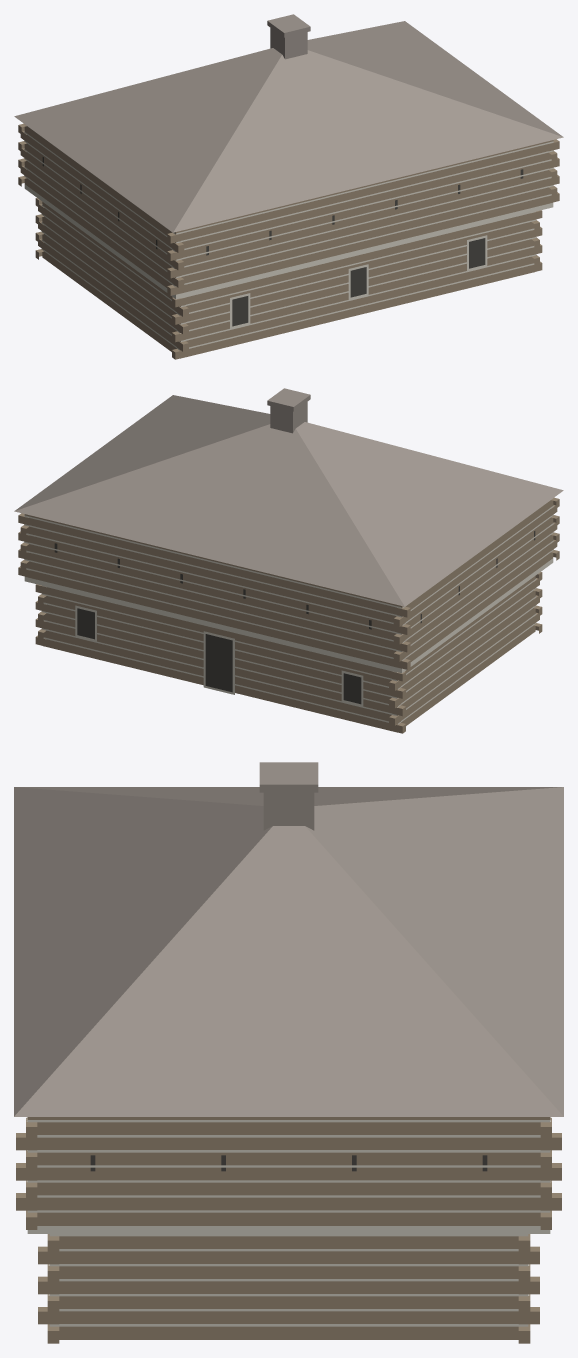
Rendered from fort_dearborn_blockhouse__log_1816.glb.
3 renders of one model, top to bottom at view 1: azimuth 30°, elevation 25°; view 2: azimuth 150°, elevation 25°; view 3: azimuth 270°, elevation 25°, orthographic. The views are drawn at different scales.
Visible parts, largest first — view 1: fort_dearborn_blockhouse__log_1816; view 2: fort_dearborn_blockhouse__log_1816; view 3: fort_dearborn_blockhouse__log_1816.
Part boxes in pixels (left/top/right/bottom): fort_dearborn_blockhouse__log_1816: left=14, top=14, right=563, bottom=359; fort_dearborn_blockhouse__log_1816: left=14, top=388, right=563, bottom=733; fort_dearborn_blockhouse__log_1816: left=14, top=762, right=563, bottom=1343.
Size of the model in its own units: 15.98 by 9.48 by 11.26.
